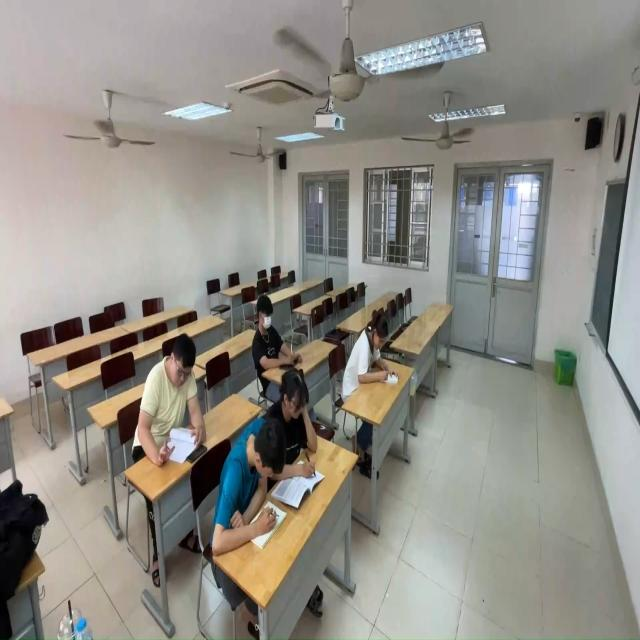read: (120, 333, 209, 473), (210, 412, 287, 555), (259, 370, 329, 493), (341, 295, 405, 402), (248, 295, 301, 374)
